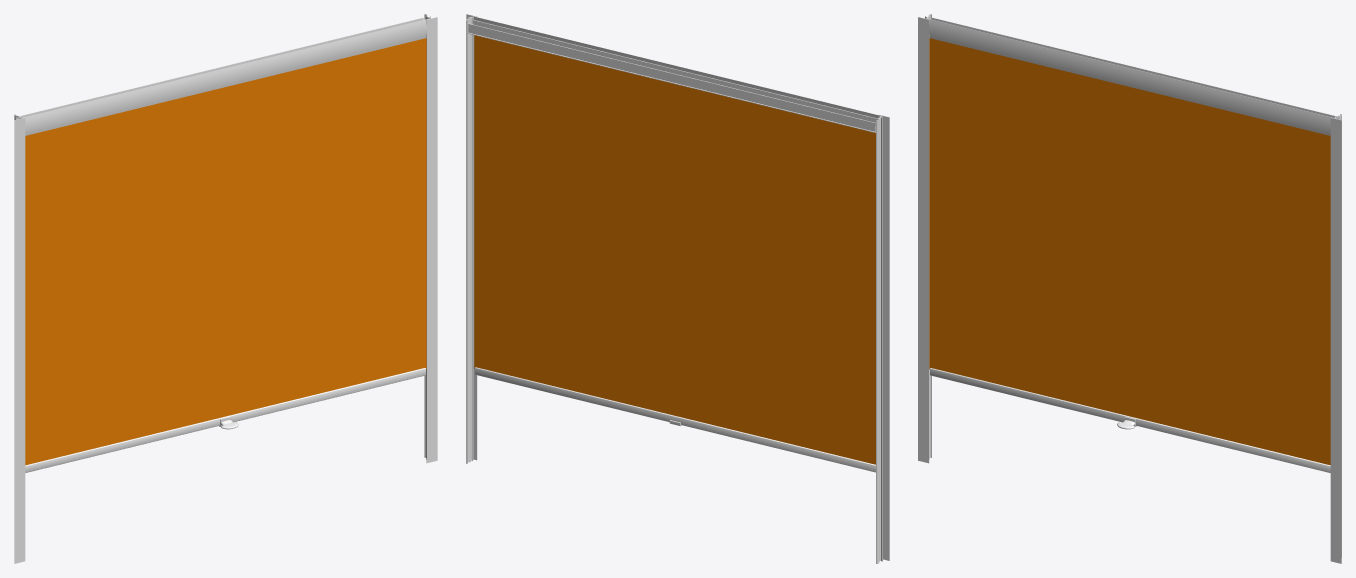
Rendered from Dachfenster Komfort.glb.
The picture shows the model from 3 angles, left to right: view 1: azimuth 30°, elevation 25°; view 2: azimuth 150°, elevation 25°; view 3: azimuth 330°, elevation 25°; orthographic projection.
Parts seen in each view (by area): view 1: Stoff.001, Plane.008, Plane.002, Plane.001, Cube.003, Plane.009; view 2: Stoff.001, Plane.009, Plane.001, Plane.002, Cube.003, Plane.008; view 3: Stoff.001, Plane.008, Plane.001, Plane.002, Cube.003, Plane.009.
Part boxes in pixels (x1=…): Stoff.001: x1=25, y1=38, x2=426, y2=465; Plane.008: x1=22, y1=19, x2=428, y2=135; Plane.002: x1=424, y1=14, x2=437, y2=462; Plane.001: x1=14, y1=114, x2=25, y2=563; Cube.003: x1=25, y1=368, x2=425, y2=472; Plane.009: x1=19, y1=17, x2=423, y2=117; Stoff.001: x1=474, y1=35, x2=875, y2=464; Plane.009: x1=468, y1=20, x2=878, y2=132; Plane.001: x1=876, y1=114, x2=889, y2=563; Plane.002: x1=466, y1=14, x2=477, y2=463; Cube.003: x1=475, y1=367, x2=875, y2=472; Plane.008: x1=474, y1=16, x2=880, y2=118; Stoff.001: x1=929, y1=38, x2=1330, y2=465; Plane.008: x1=927, y1=19, x2=1333, y2=135; Plane.001: x1=918, y1=14, x2=931, y2=463; Plane.002: x1=1330, y1=114, x2=1341, y2=563; Cube.003: x1=930, y1=368, x2=1330, y2=472; Plane.009: x1=932, y1=17, x2=1336, y2=117.
Size of the model in its own units: 0.997 by 0.9983 by 0.0574.
3 materials, 1 textured.
